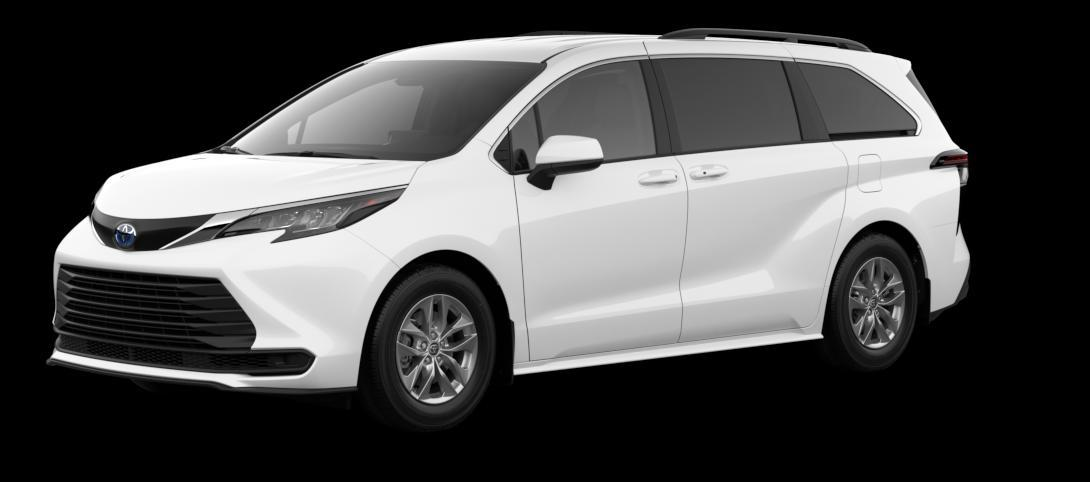Minivan: (53, 31, 970, 433)
